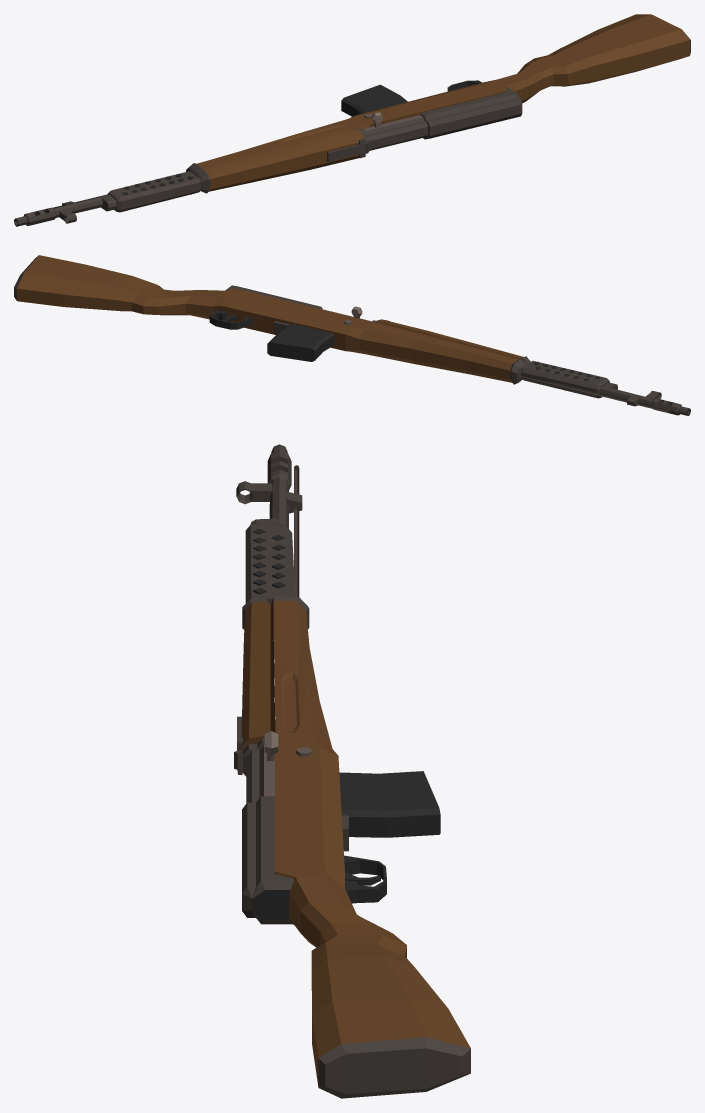
Rendered from SVT_3D.glb.
The picture shows the model from 3 angles, top to bottom: view 1: azimuth 30°, elevation 25°; view 2: azimuth 150°, elevation 25°; view 3: azimuth 270°, elevation 25°; orthographic projection. The views are drawn at different scales.
Parts seen in each view (by area): view 1: SVT (1); view 2: SVT (1); view 3: SVT (1).
Boxes of the visible parts, x1=… form: SVT (1): x1=14, y1=14, x2=690, y2=226; SVT (1): x1=14, y1=255, x2=690, y2=415; SVT (1): x1=234, y1=444, x2=470, y2=1098.
Bounding box in the file's own units: 1.1 × 0.0588 × 0.1759.
1 material, 1 textured.
